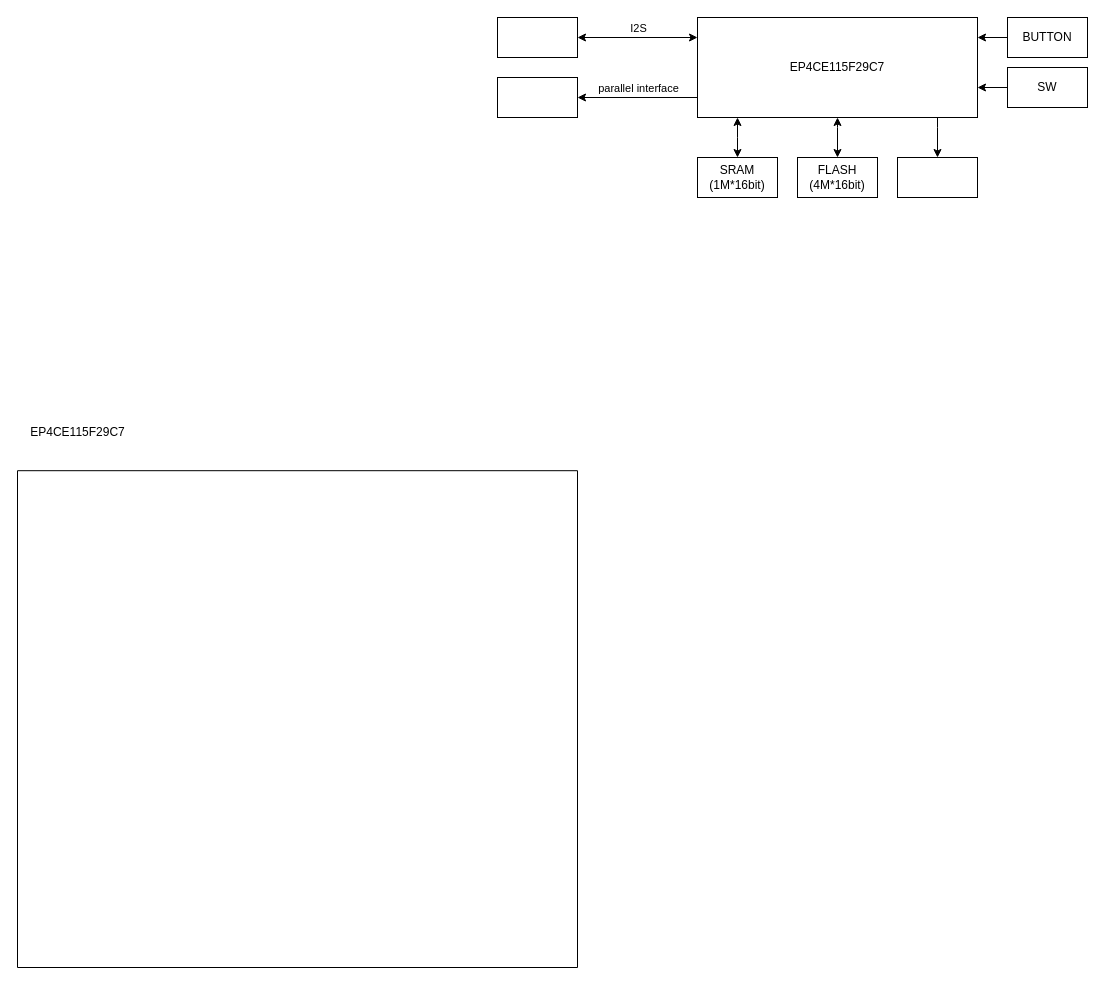
This 1105x986 diagram has some shape labels left out. The centre of each missing label's shape, as x and y in pixels:
"Audio CODEC (WM8731)" goes at (537,37).
"LCD (HD44780)" goes at (537,97).
"LED" goes at (937,177).
